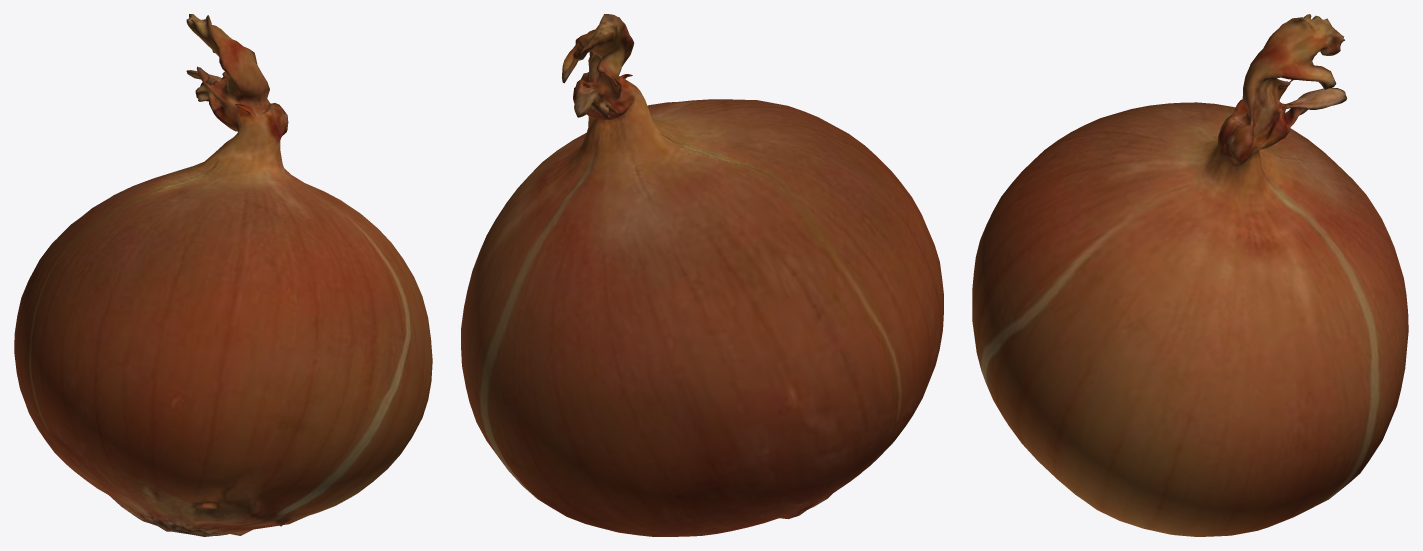
The picture shows the model from 3 angles, left to right: view 1: azimuth 30°, elevation 25°; view 2: azimuth 150°, elevation 25°; view 3: azimuth 270°, elevation 25°; orthographic projection. The views are drawn at different scales.
Visible parts, largest first — view 1: yellow_onion; view 2: yellow_onion; view 3: yellow_onion.
Part boxes in pixels (x1,y1,x2,y2): yellow_onion: (14,14,432,536); yellow_onion: (461,14,943,536); yellow_onion: (972,14,1408,536).
Bounding box in the file's own units: 0.0725 × 0.0864 × 0.0686.
Materials: 1 (1 with a texture image).
